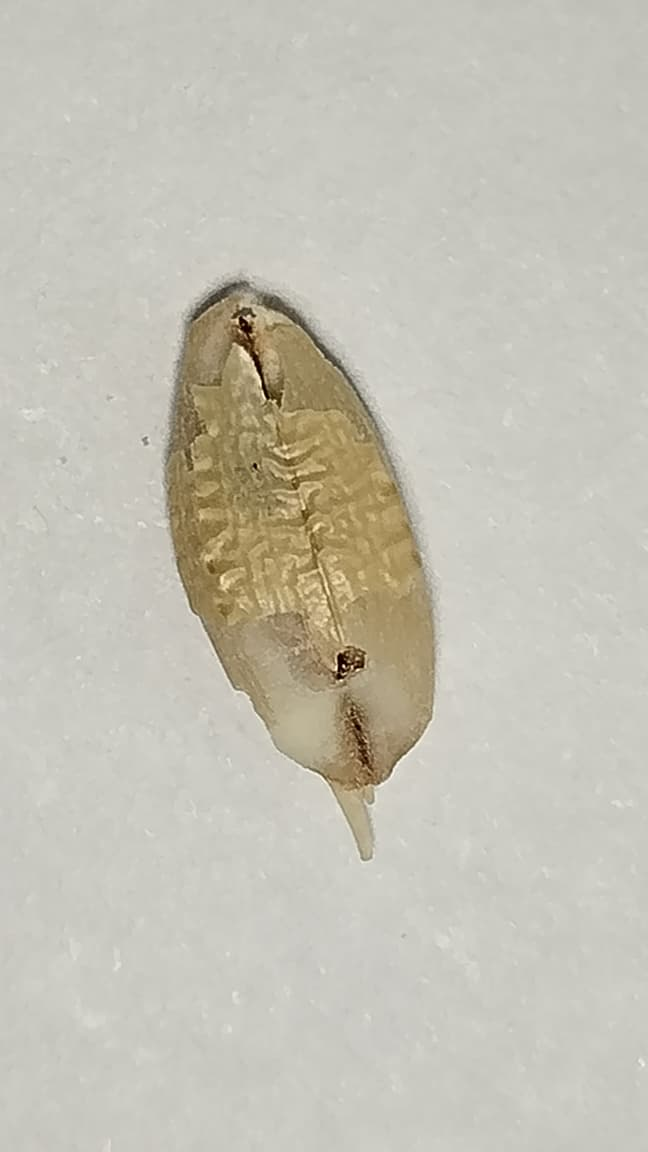healthy-70-60: (169, 292, 434, 859)
insectdamage: (264, 657, 431, 788), (218, 294, 291, 415)
